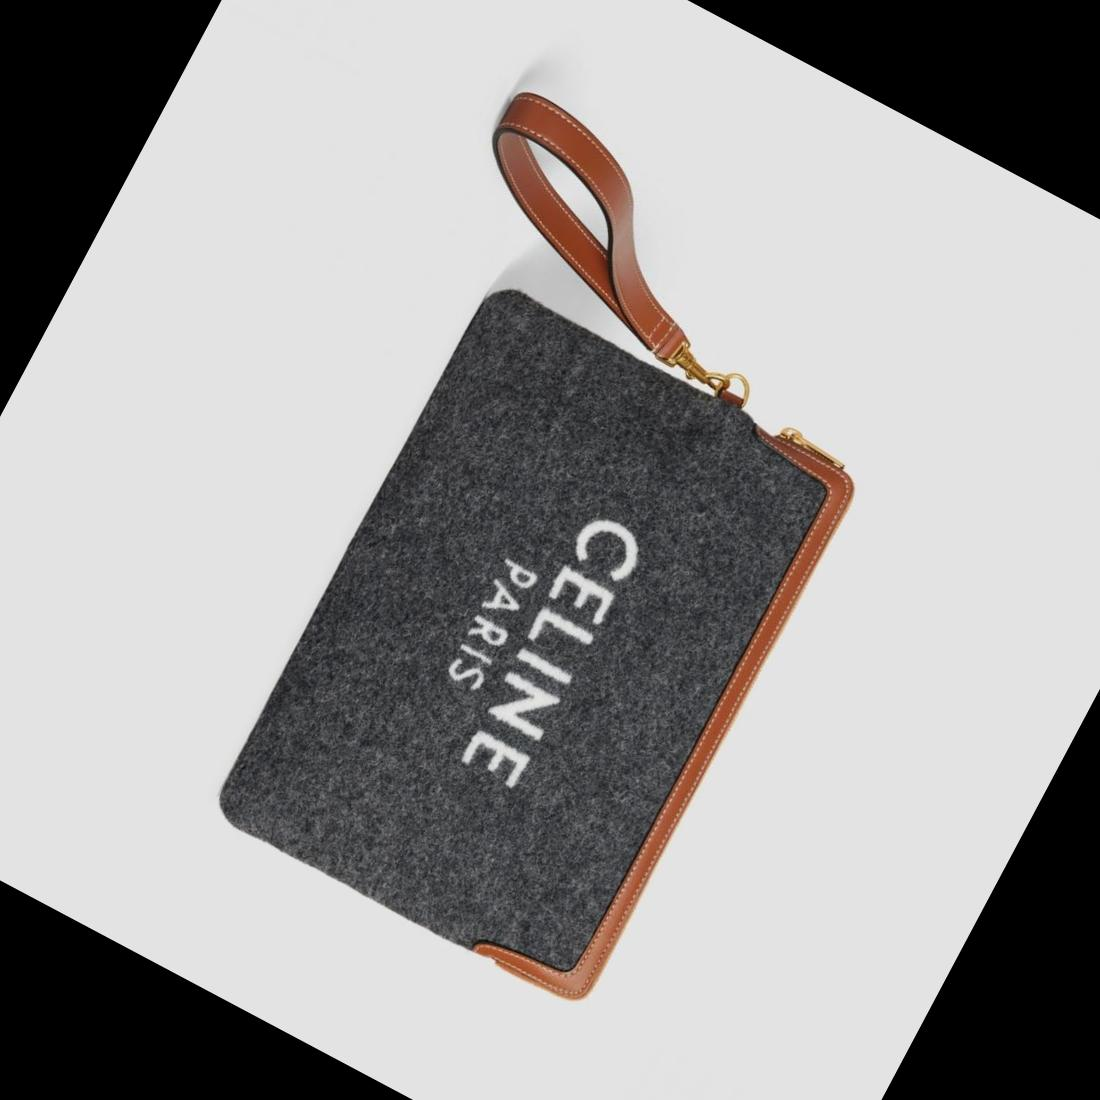CELINE: (453, 506, 650, 794)
